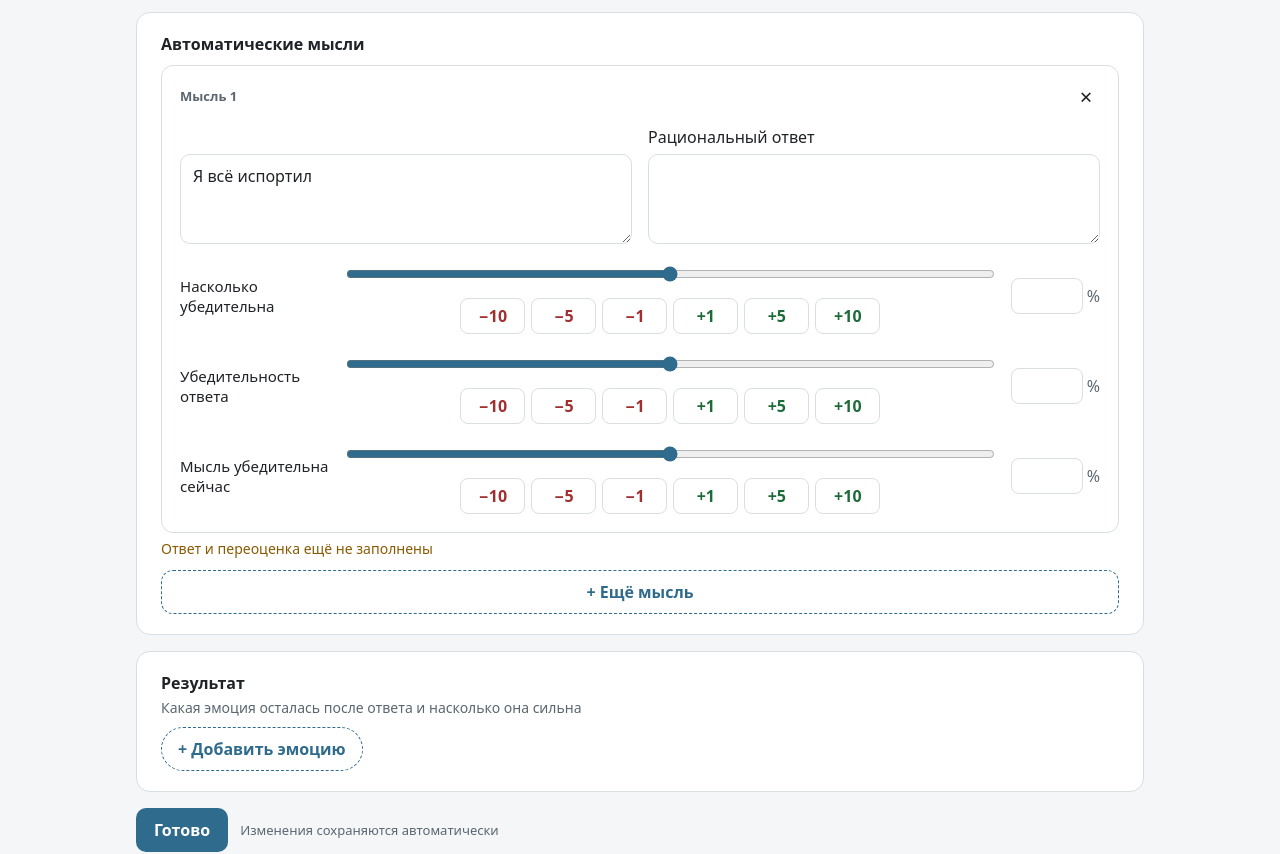
Test case: adds second thought
The width and height of the screenshot is (1280, 854).
(page scrolled)
Expected: the number of text boxes named "Автоматическая мысль" is 1, [180,154,632,244]
Click the button "+ Ещё мысль". click: point(640, 592)
box: [161,570,1119,614]
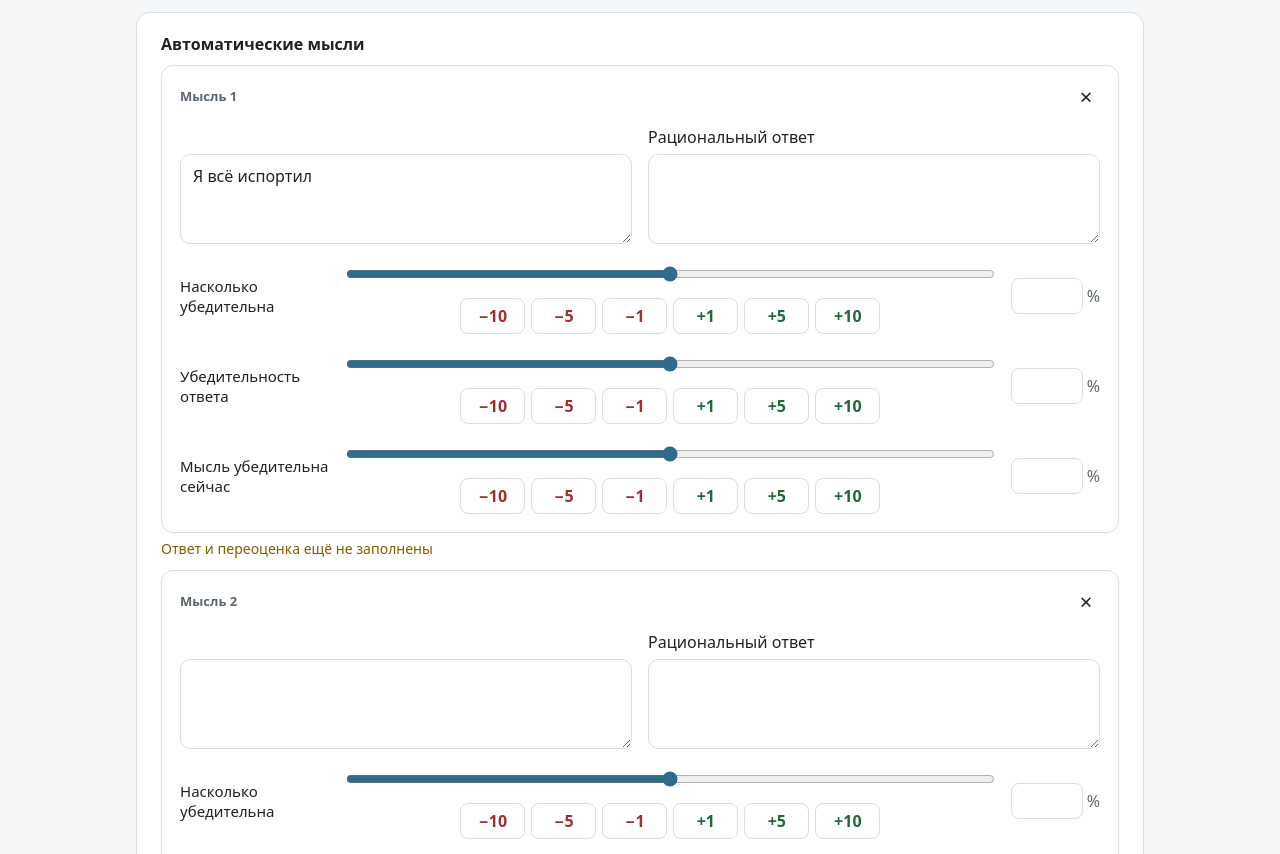
Expected: the 1st text box named "Автоматическая мысль" holds "Я всё испортил", [180,154,632,244]
Expected: the number of text boxes named "Автоматическая мысль" is 2, [180,154,632,244]; [180,659,632,749]
Expected: the heading "Мысль 2" is shown, [180,592,237,610]
